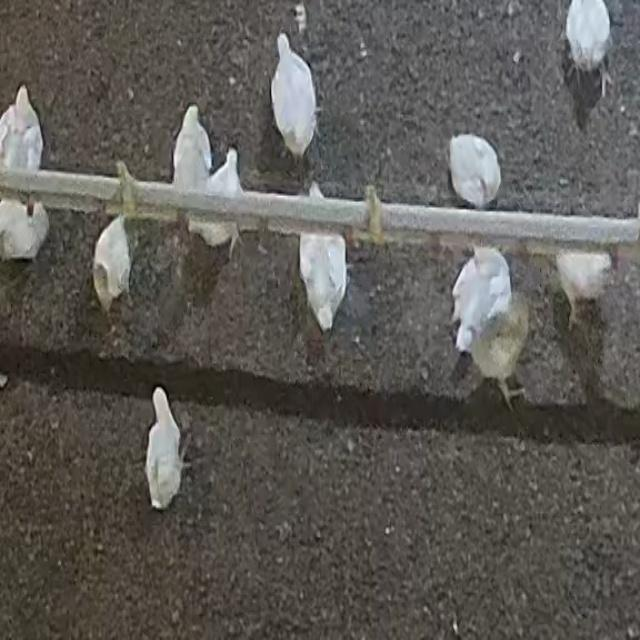chicken: (297, 187, 354, 331), (469, 291, 533, 411), (271, 33, 317, 175), (451, 247, 511, 354), (148, 388, 194, 508), (197, 147, 245, 257), (562, 1, 613, 102), (91, 211, 134, 322), (554, 250, 614, 328), (447, 132, 502, 210), (0, 85, 44, 175), (173, 105, 212, 195), (0, 193, 49, 264)
